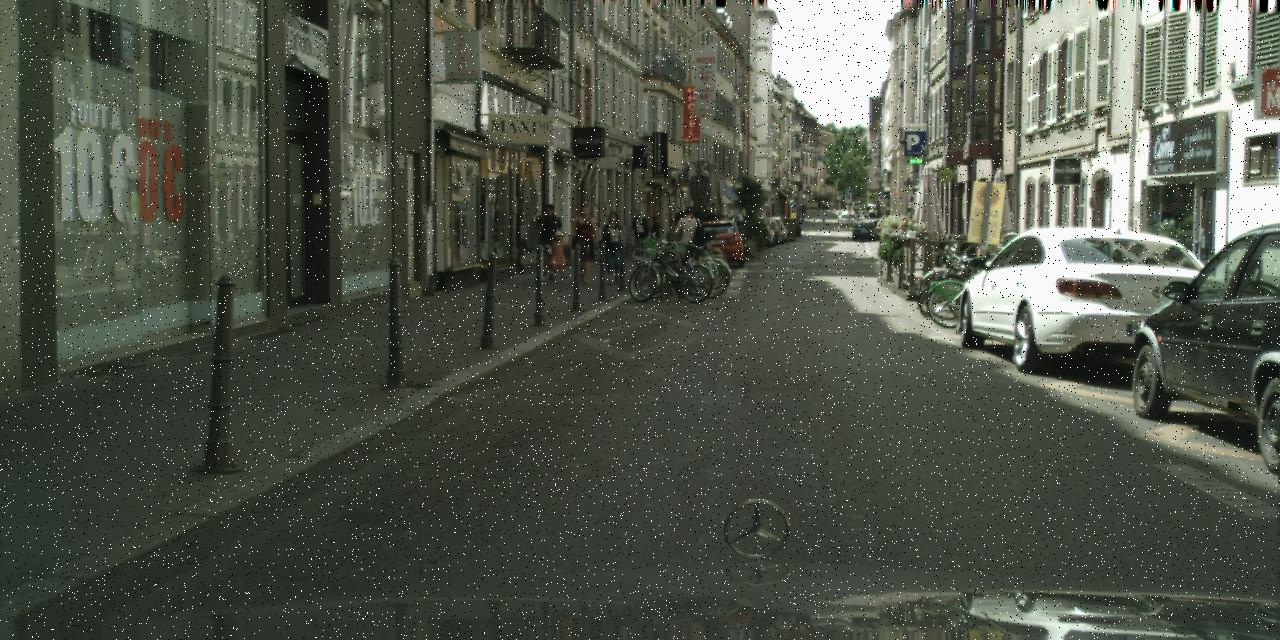ped: (568, 204, 600, 283), (672, 207, 703, 284), (533, 204, 563, 279), (598, 212, 628, 284), (548, 231, 568, 281), (630, 209, 649, 256), (646, 215, 662, 255), (821, 200, 826, 212), (825, 200, 829, 211)
